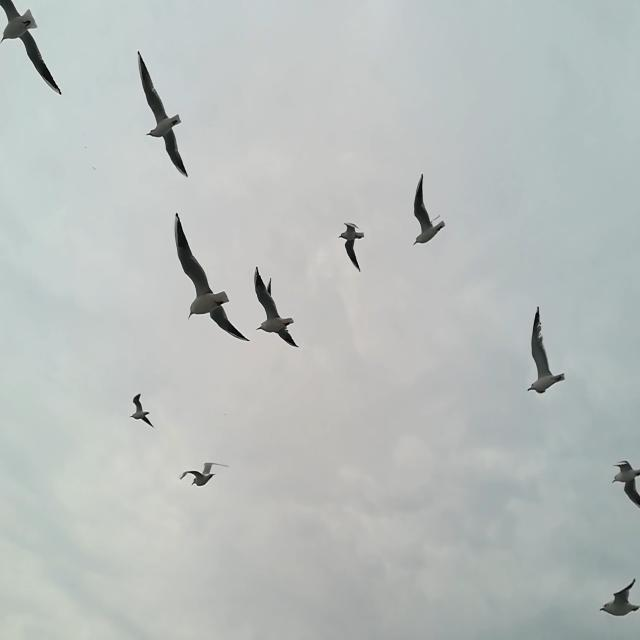bird: (174, 213, 251, 346), (135, 51, 188, 181), (0, 0, 63, 102), (254, 268, 299, 349), (526, 307, 566, 393), (414, 176, 447, 247), (596, 579, 639, 619), (612, 461, 640, 516), (338, 222, 366, 274), (180, 460, 229, 487), (130, 394, 155, 429), (265, 270, 272, 296)
